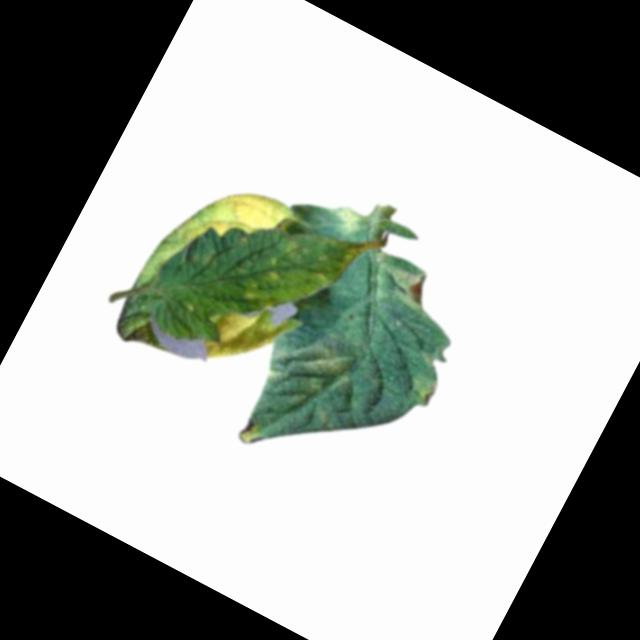Leaf_Mold: (253, 212, 362, 331), (181, 167, 295, 278), (199, 293, 282, 379), (297, 338, 360, 399), (377, 256, 436, 314), (400, 369, 443, 412), (330, 201, 368, 239)
